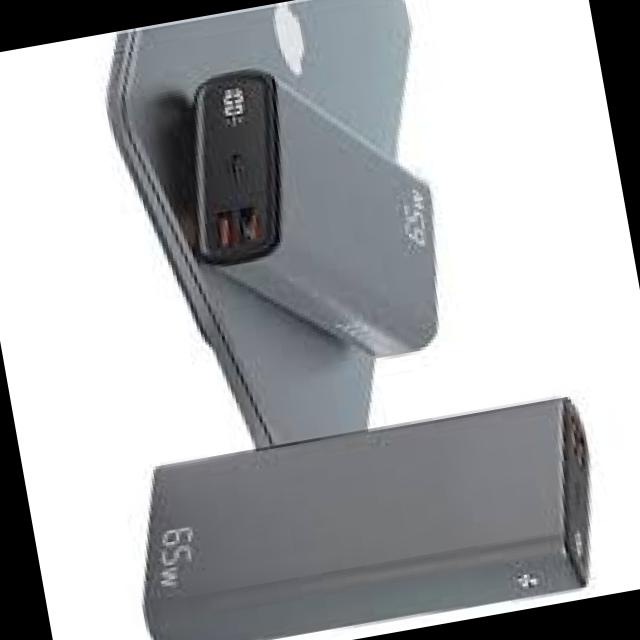power_bank: (116, 385, 614, 640), (170, 38, 462, 388)
